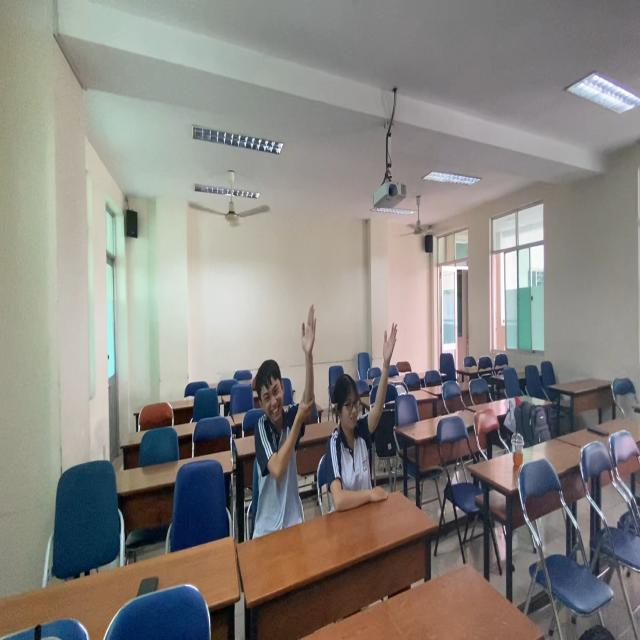raise_hand: (247, 302, 319, 534), (328, 318, 402, 519)
